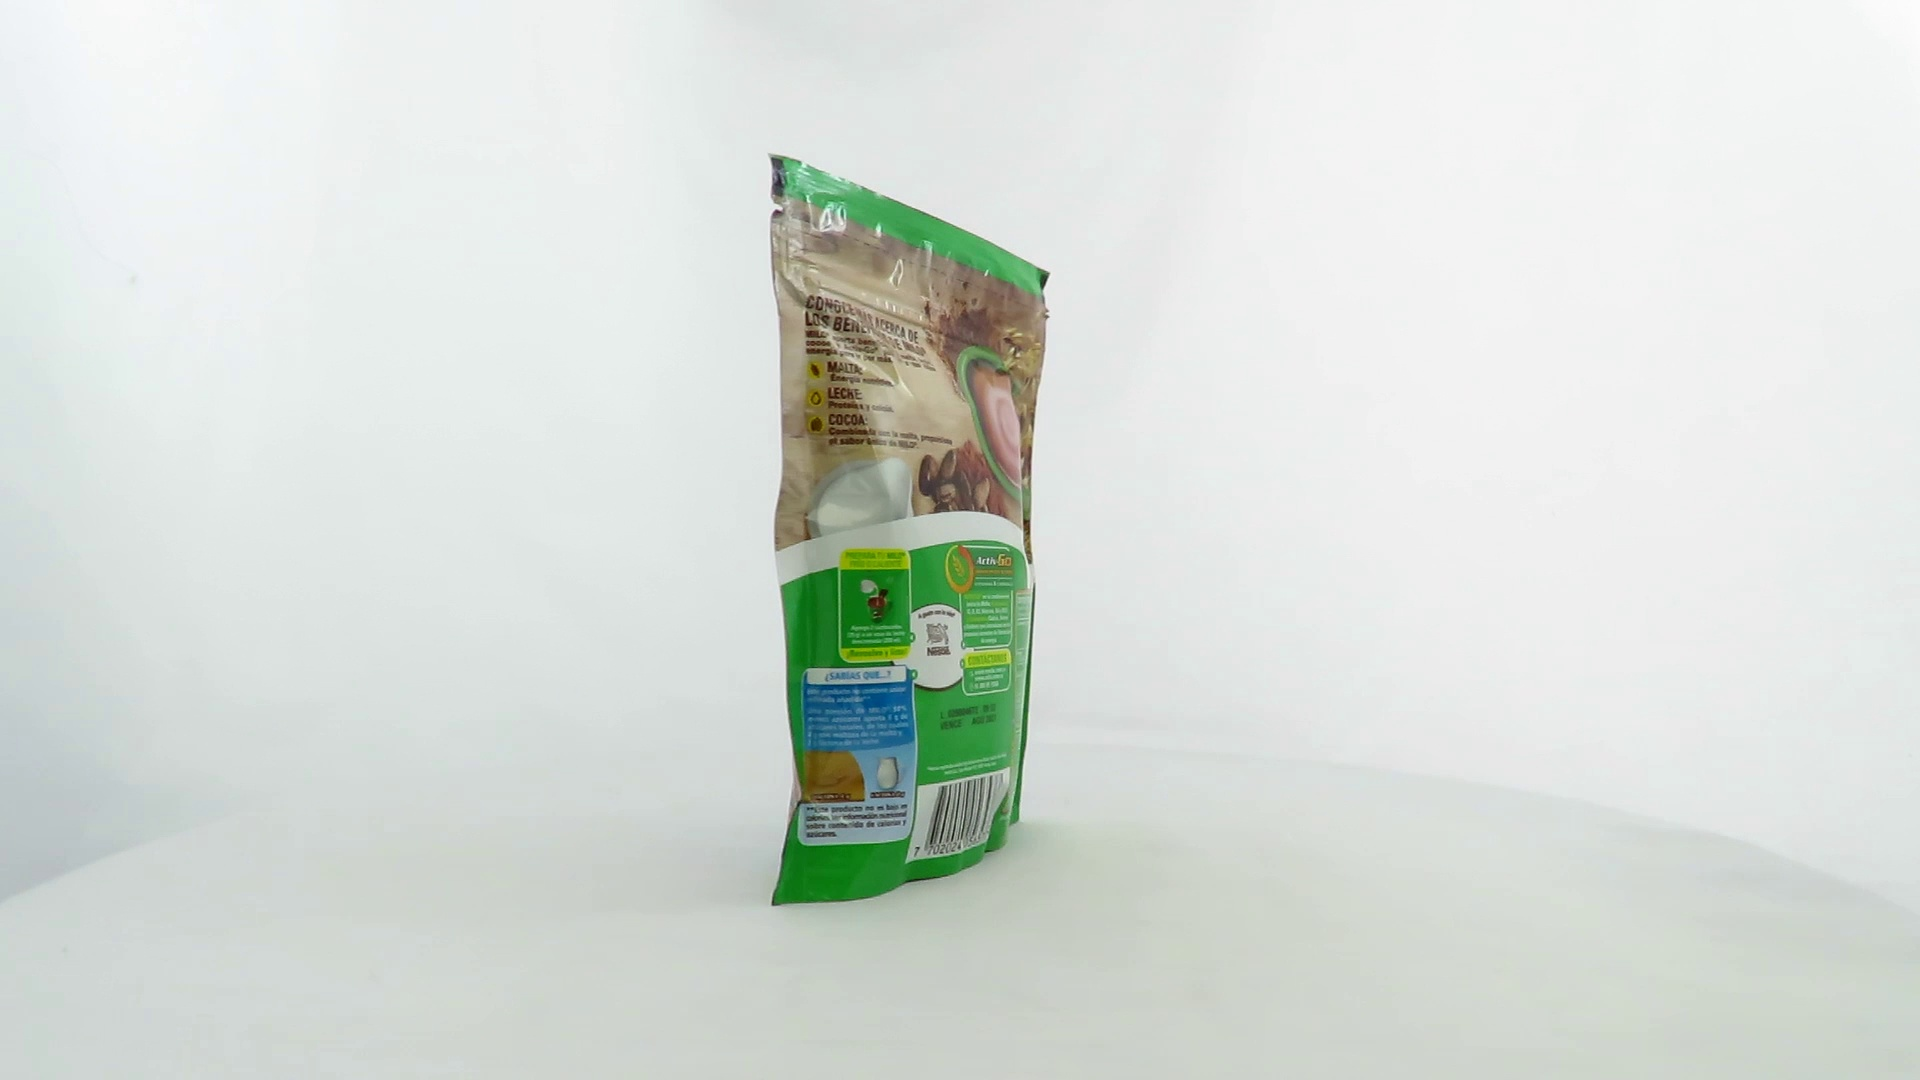COL0170205DYP20000: (762, 148, 1056, 913)
